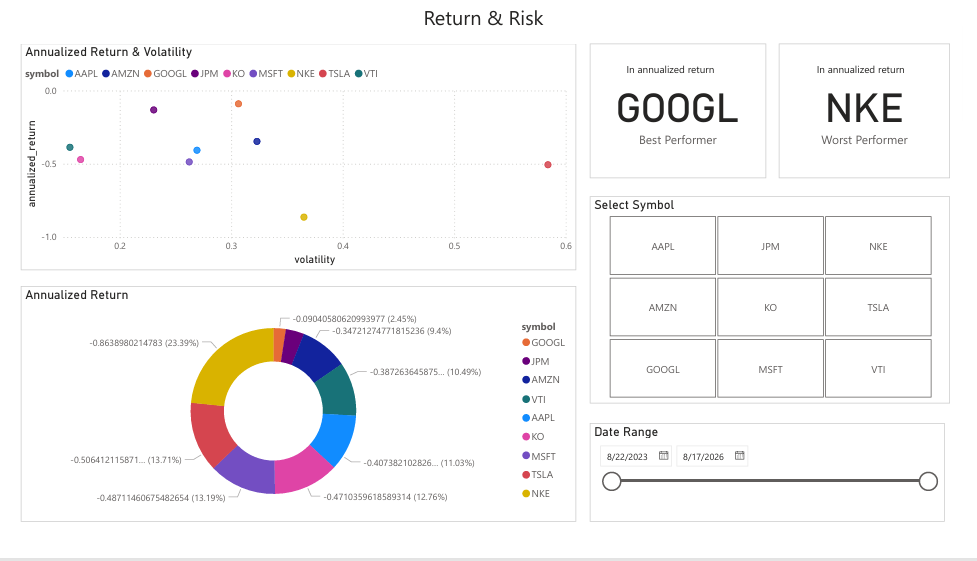

Layout of this report page (visuals, bound fields, positions):
{"tool":"powerbi","page":{"name":"Page 2","canvas":[1280,720],"ordinal":1},"visuals":[{"type":"scatterChart","title":"Annualized Return & Volatility","fields":{"X":["public dim_stock_metrics.volatility"],"Y":["public dim_stock_metrics.annualized_return"],"Series":["public dim_stock_metrics.symbol"]},"box":[20.8,57.9,743,303.2],"z":0},{"type":"textbox","box":[0,0,1280,58.8],"z":1000},{"type":"donutChart","title":"Annualized Return ","fields":{"Category":["public dim_stock_metrics.symbol"],"Y":["Avg(public dim_stock_metrics.annualized_return)"]},"box":[20.8,381.9,743,314.8],"z":2000},{"type":"card","fields":{"Values":["public dim_stock_metrics.Best Performer"]},"box":[782.4,57.9,236.1,180.5],"z":3000},{"type":"card","fields":{"Values":["public dim_stock_metrics.Worst Performer"]},"box":[1034.6,57.9,229.2,180.5],"z":4000},{"type":"slicer","title":"Select Symbol","fields":{"Values":["public fct_stock_analysis_with_sentiment.symbol"]},"box":[782.4,261.6,481.4,277.8],"z":5000},{"type":"slicer","title":"Date Range","fields":{"Values":["public fct_stock_analysis_with_sentiment.date"]},"box":[782.4,564.8,474.5,131.9],"z":6000},{"type":"textbox","box":[812.4,78.7,155.1,37],"z":7000},{"type":"textbox","box":[1055.5,78.7,178.2,37],"z":7001}]}

Visuals, with their boxes in screenshot pixels (x1, y1, x2, y2), scaled from the page's 1280x720 canvas onto the 977x561 screenshot:
"Annualized Return & Volatility" scatterChart: detection(16, 45, 583, 281)
textbox: detection(0, 0, 976, 46)
"Annualized Return " donutChart: detection(16, 298, 583, 543)
card - public dim_stock_metrics.Best Performer: detection(597, 45, 777, 186)
card - public dim_stock_metrics.Worst Performer: detection(790, 45, 965, 186)
"Select Symbol" slicer: detection(597, 204, 965, 420)
"Date Range" slicer: detection(597, 440, 959, 543)
textbox: detection(620, 61, 738, 90)
textbox: detection(806, 61, 942, 90)
